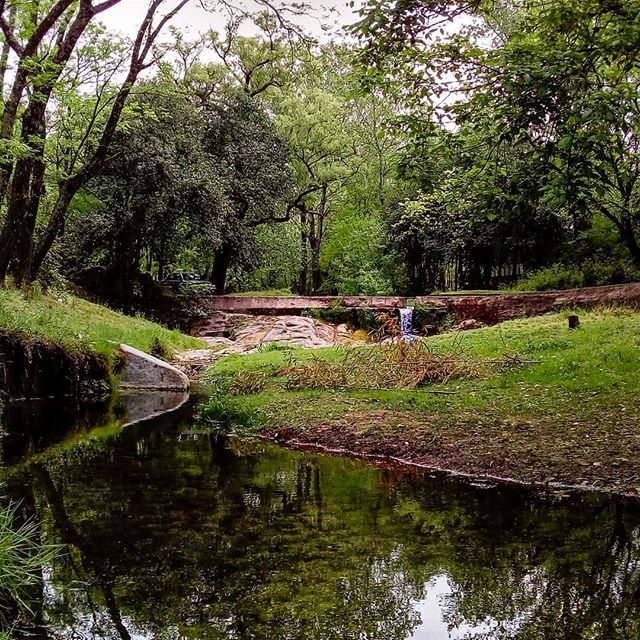grass: (197, 308, 640, 470), (1, 276, 199, 376)
river: (1, 393, 624, 640)
vegetation: (1, 2, 640, 304)
